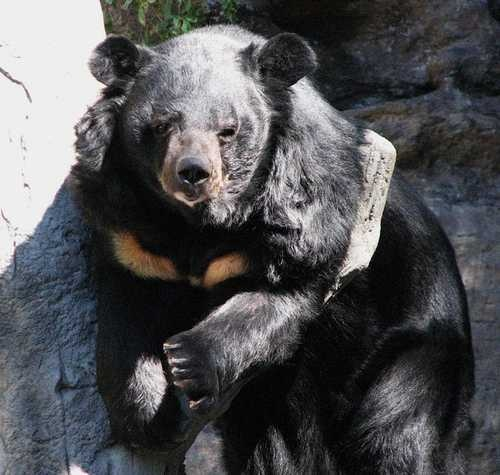bear: (73, 21, 202, 149), (134, 84, 262, 212), (207, 21, 335, 149)
